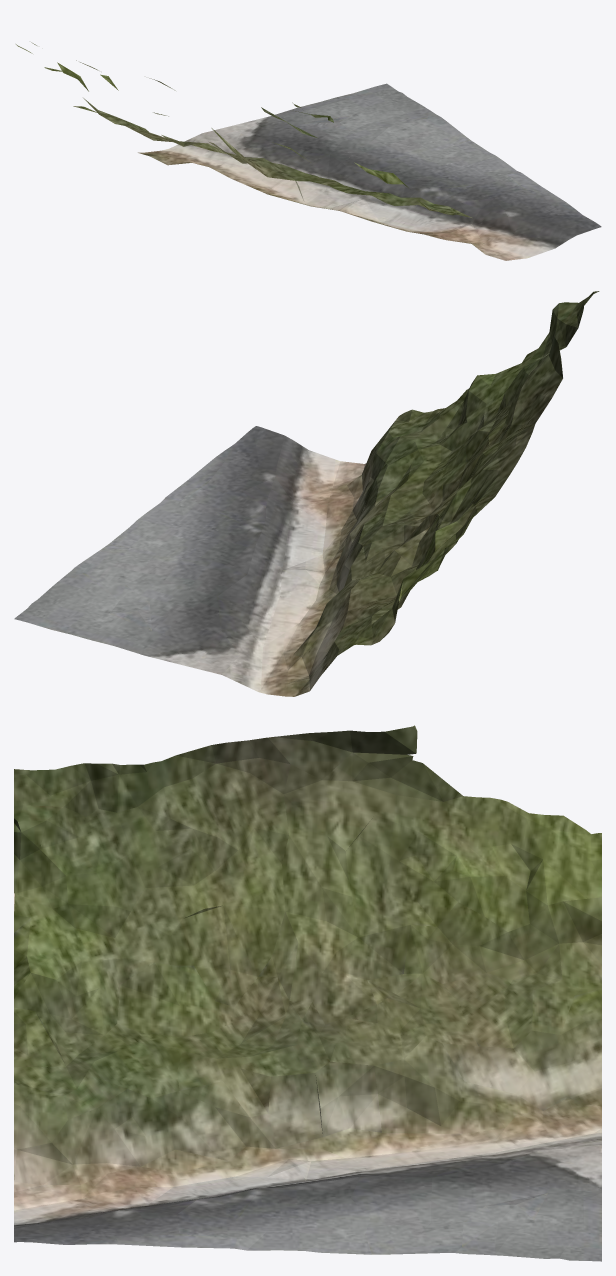
The picture shows the model from 3 angles, top to bottom: view 1: azimuth 30°, elevation 25°; view 2: azimuth 150°, elevation 25°; view 3: azimuth 270°, elevation 25°; orthographic projection. The views are drawn at different scales.
Size of the model in its own units: 2.95 by 1.68 by 2.95.
Materials: 3 (3 with a texture image).
